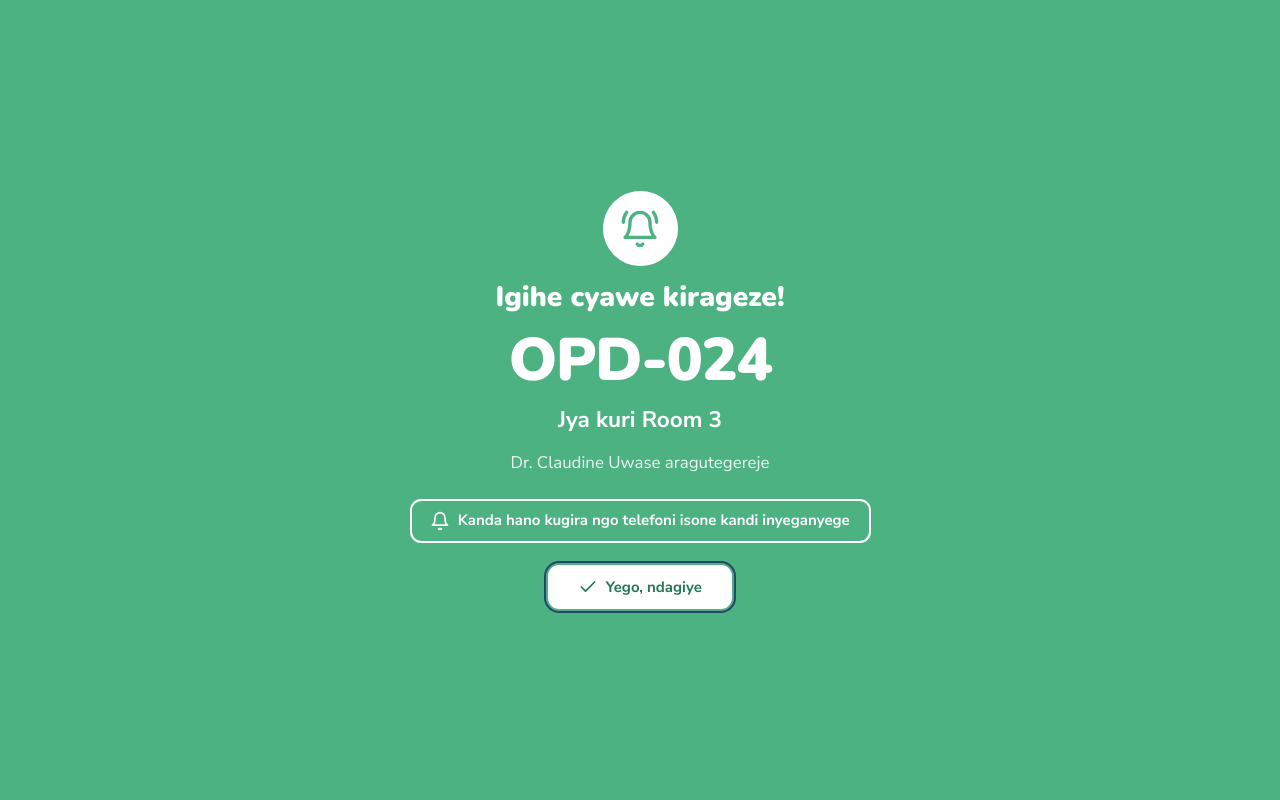
Test: patient ticket page › called: full screen with the room, and a way to turn on sound
Expected: the heading "Igihe cyawe kirageze!" is shown, [495,281,785,315]
Expected: the text "OPD-024" is shown, [509,330,771,390]
Click the button "Yego, ndagiye" at x=640, y=587, box [548,565,732,609]
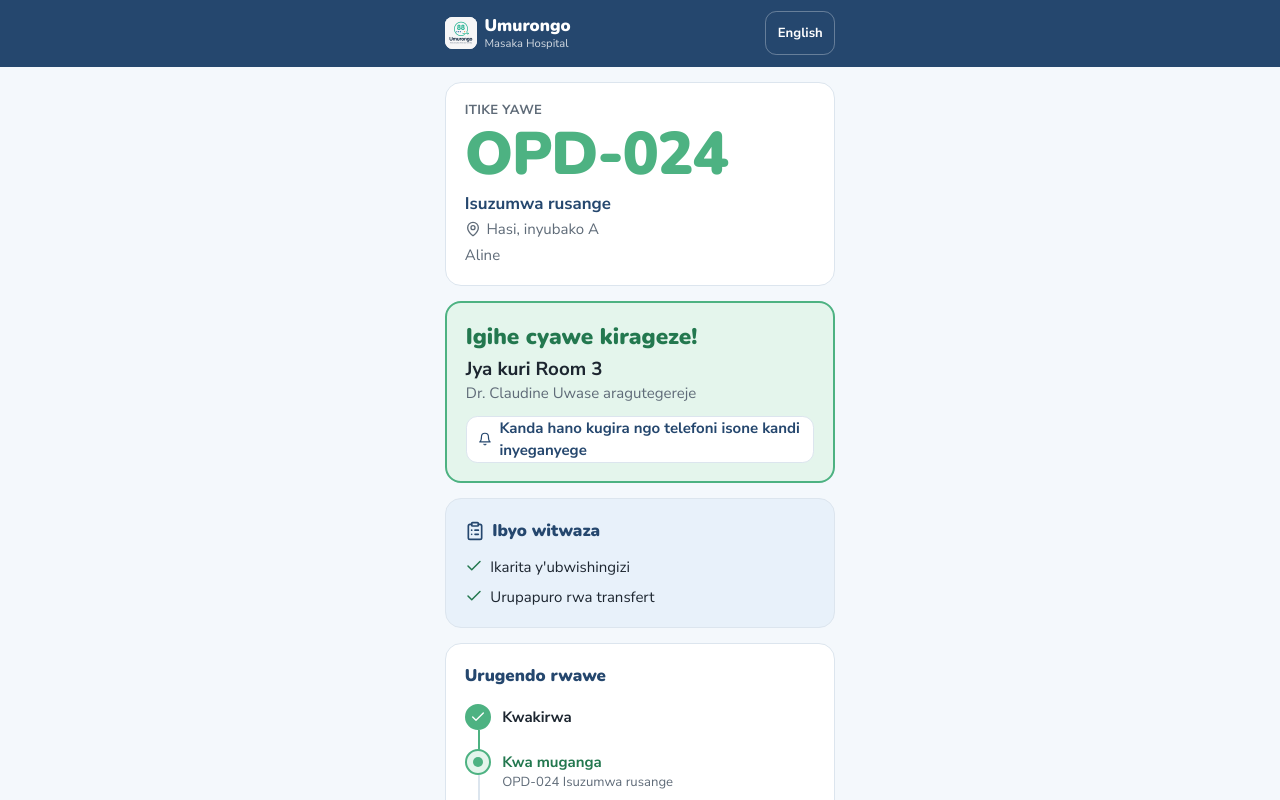
Now the dialog is gone
